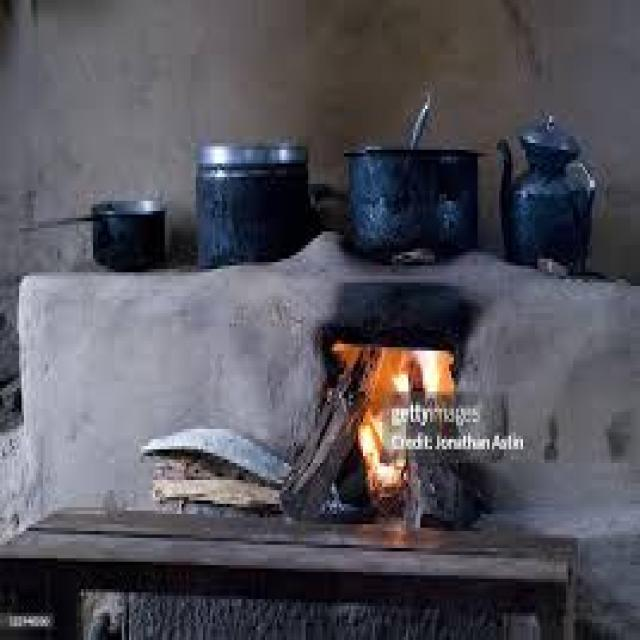fire: (393, 350, 440, 406), (359, 424, 394, 484)
